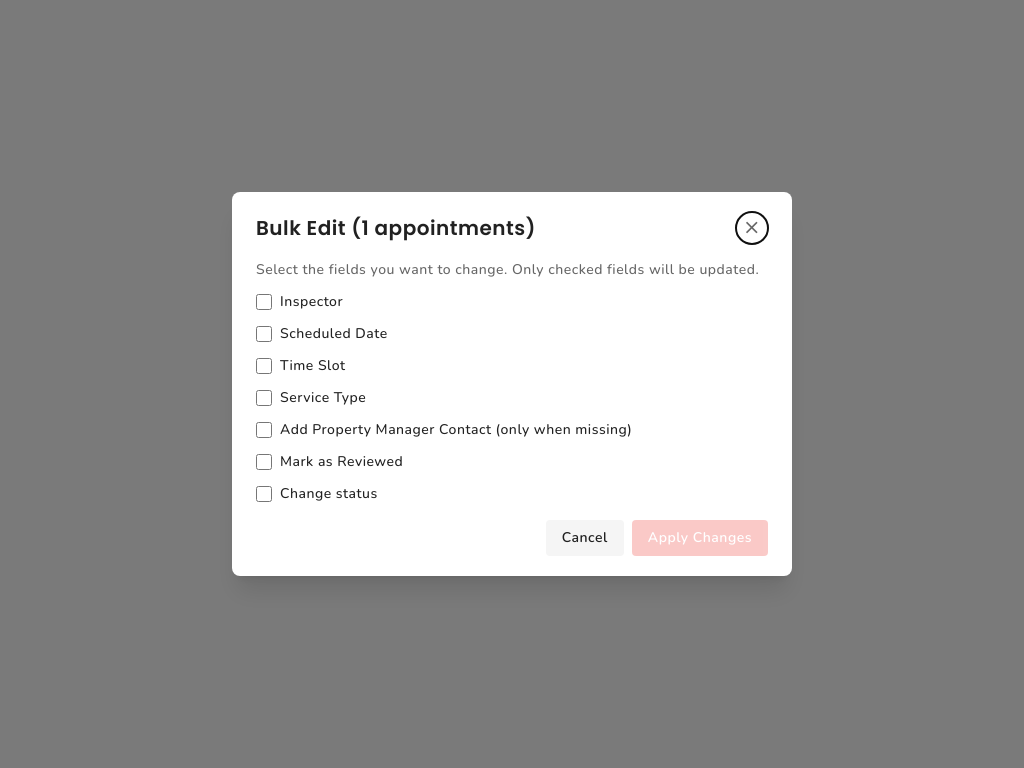
Test case: BulkEditModal › rejects an incomplete scheduled date instead of silently dropping it
Click the checkbox labelled "Scheduled Date". click: point(264, 334)
box: [256, 326, 272, 342]
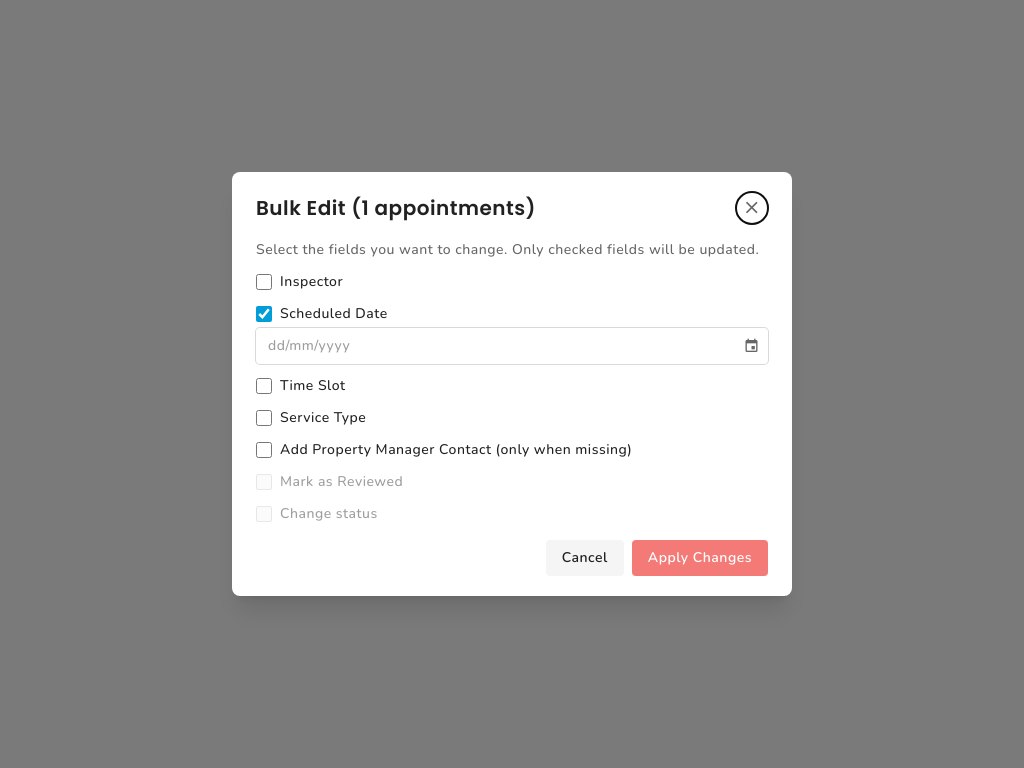
Type "15/06" into the field named "Set scheduled date". click: point(498, 346)
box: [256, 328, 740, 364]
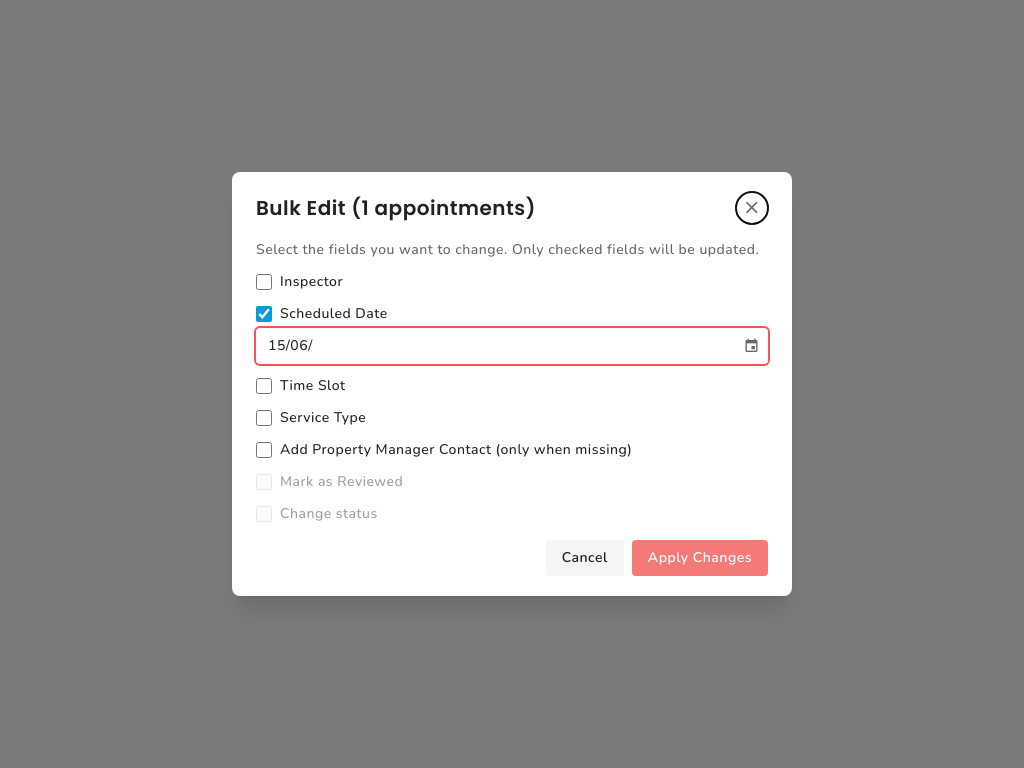
Click the button "Apply Changes". click: point(700, 558)
box: [632, 540, 768, 576]
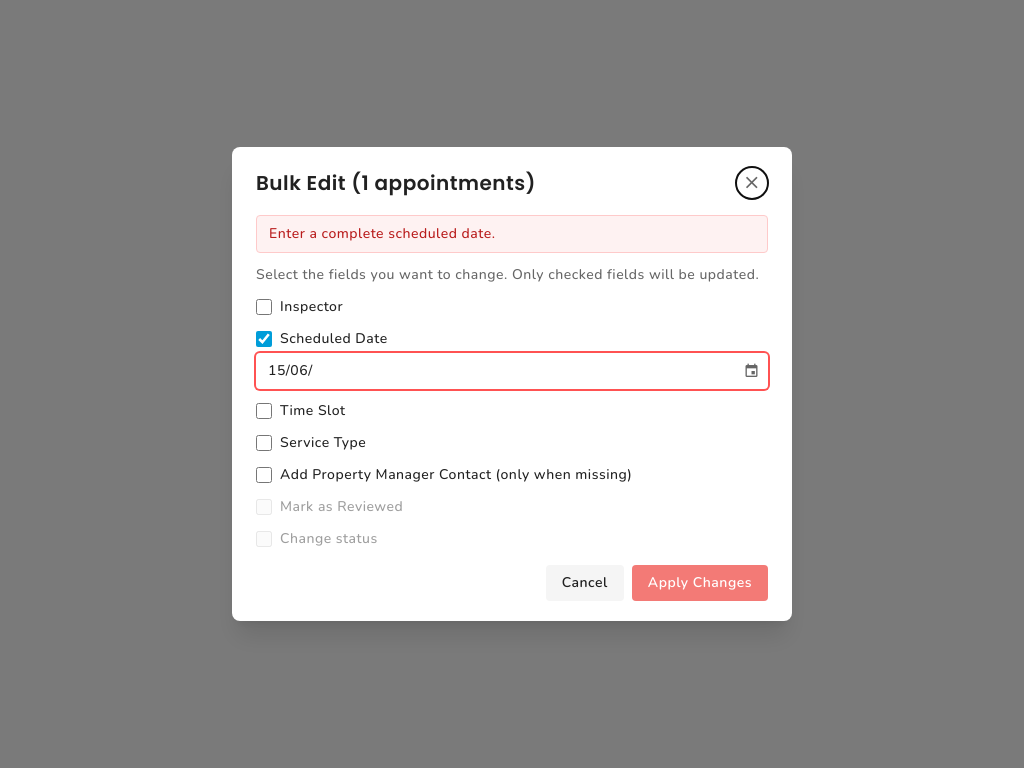
Now the text "Enter a complete scheduled date." is shown, box [256, 215, 768, 253]
